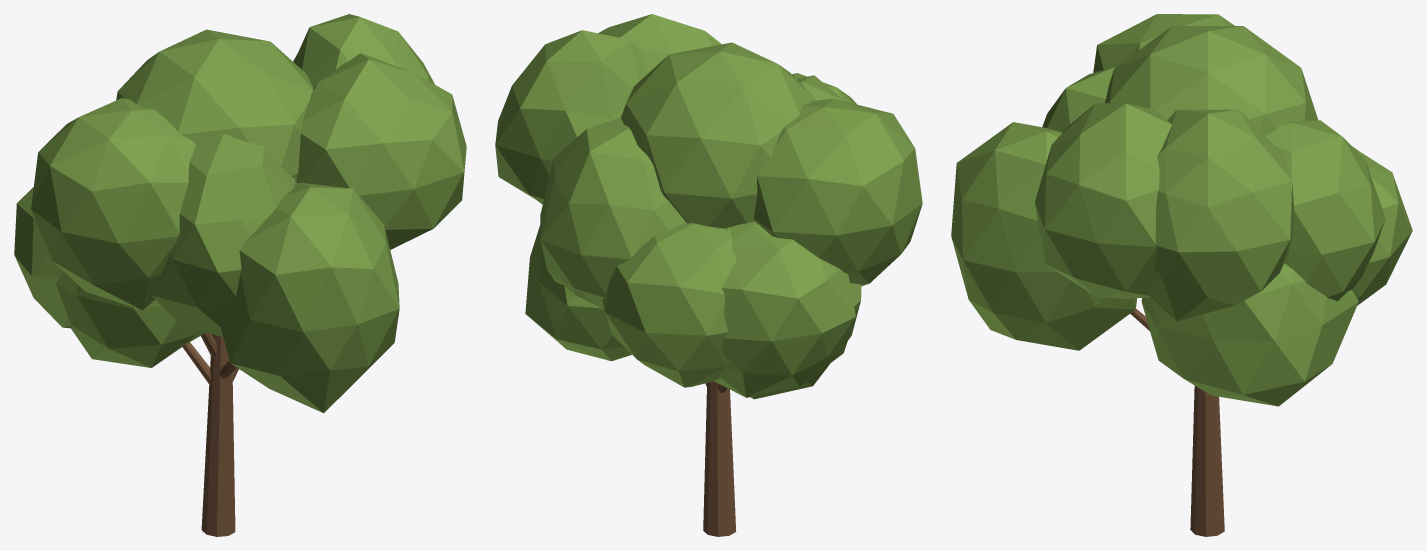
Rendered from deciduous-1.glb.
3 views of the same model, side by side, from view 1: azimuth 30°, elevation 25°; view 2: azimuth 150°, elevation 25°; view 3: azimuth 270°, elevation 25° (orthographic). The views are drawn at different scales.
Visible parts, largest first — view 1: deciduous-1; view 2: deciduous-1; view 3: deciduous-1.
Boxes of the visible parts, left/top/right/bottom form: deciduous-1: left=14, top=14, right=466, bottom=536; deciduous-1: left=495, top=14, right=922, bottom=536; deciduous-1: left=951, top=14, right=1412, bottom=536.
Bounding box in the file's own units: 5.05 × 5.95 × 5.
